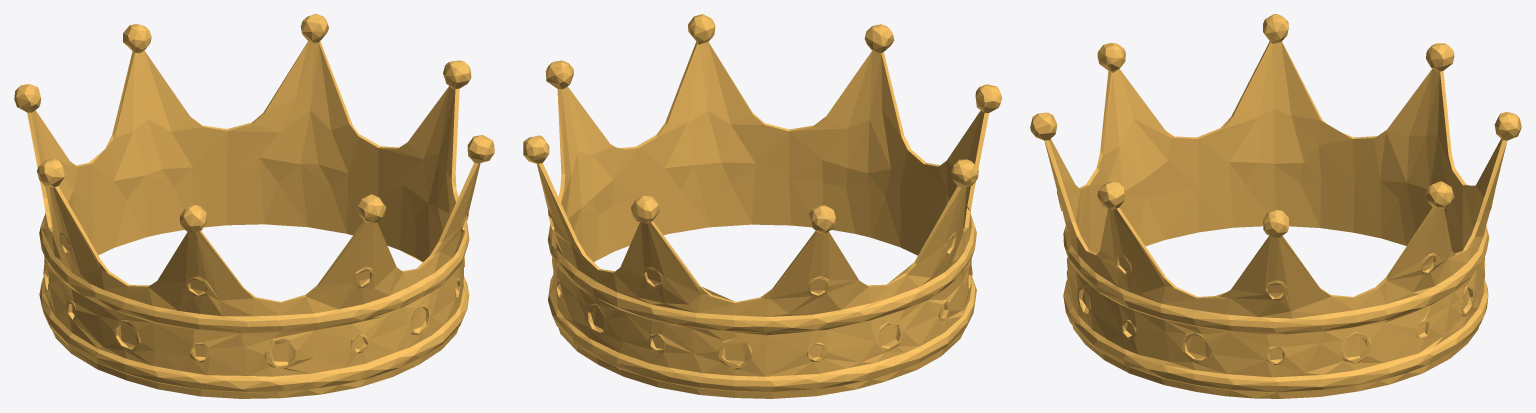
File: lowpolycrown.glb
3 renders of one model, left to right at view 1: azimuth 30°, elevation 25°; view 2: azimuth 150°, elevation 25°; view 3: azimuth 270°, elevation 25°, orthographic.
Visible parts, largest first — view 1: Crown 4 LP_0; view 2: Crown 4 LP_0; view 3: Crown 4 LP_0.
Boxes of the visible parts, x1,y1,x2,y2 form: Crown 4 LP_0: (14, 14, 494, 398); Crown 4 LP_0: (523, 14, 1001, 398); Crown 4 LP_0: (1030, 14, 1521, 398).
Bounding box in the file's own units: 6.87 × 3.06 × 6.88.
